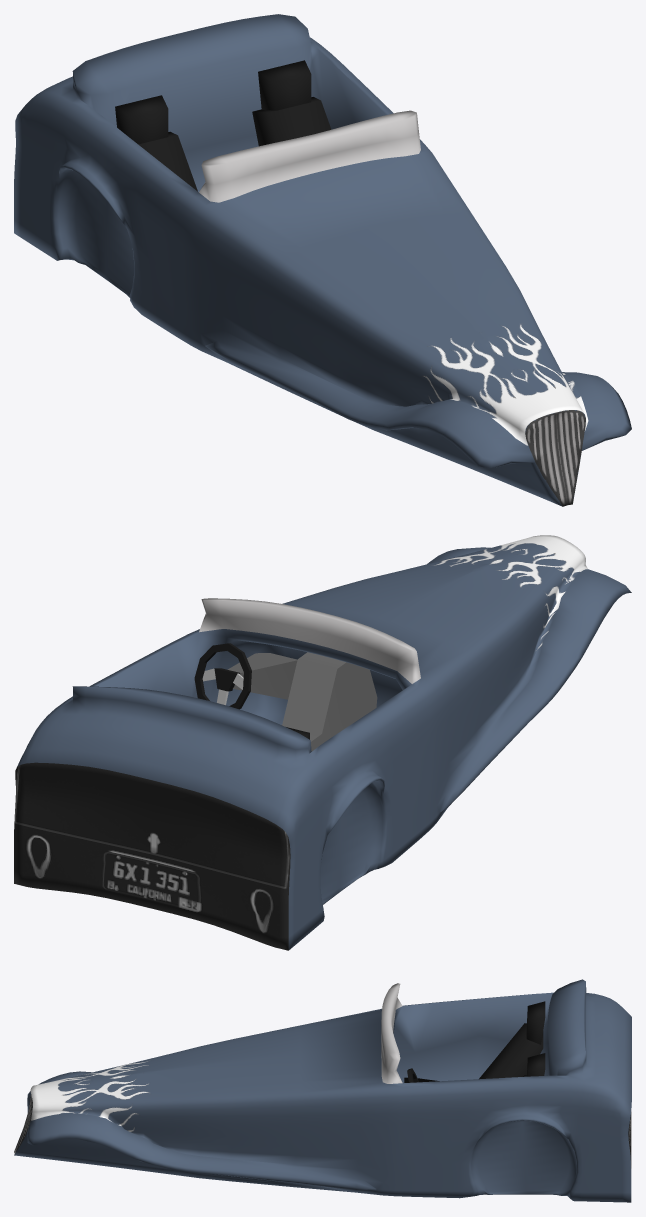
File: Hot Rod 1.FBX
The picture shows the model from 3 angles, top to bottom: view 1: azimuth 30°, elevation 25°; view 2: azimuth 150°, elevation 25°; view 3: azimuth 270°, elevation 25°; orthographic projection. The views are drawn at different scales.
Parts seen in each view (by area): view 1: Chasis, Silla; view 2: Chasis, Centro, Volante, i_wheel; view 3: Chasis, Silla.
Part boxes in pixels (x1,y1,x2,y2): Chasis: [14, 14, 631, 506]; Silla: [115, 60, 331, 191]; Chasis: [14, 535, 631, 950]; Centro: [282, 652, 377, 751]; Volante: [227, 653, 297, 699]; i_wheel: [194, 643, 251, 709]; Chasis: [14, 979, 631, 1202]; Silla: [404, 1001, 545, 1082].
Size of the model in its own units: 30.33 by 19.06 by 75.06.
Materials: 4 (1 with a texture image).
